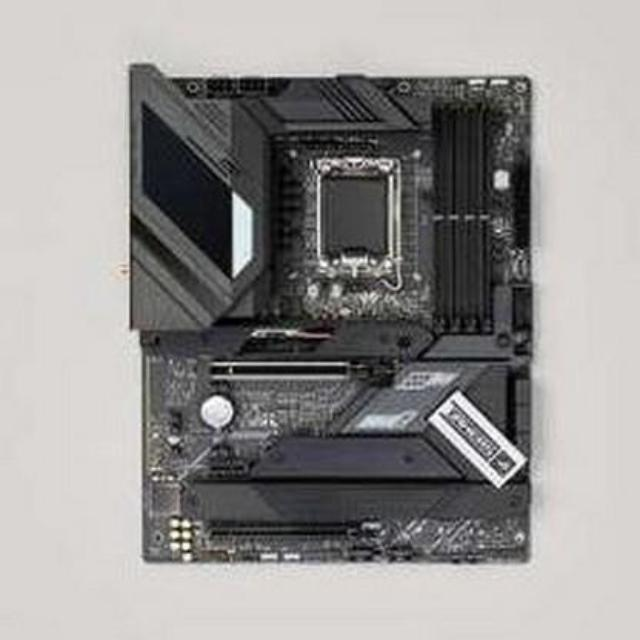Mainboard: (133, 69, 533, 572)
